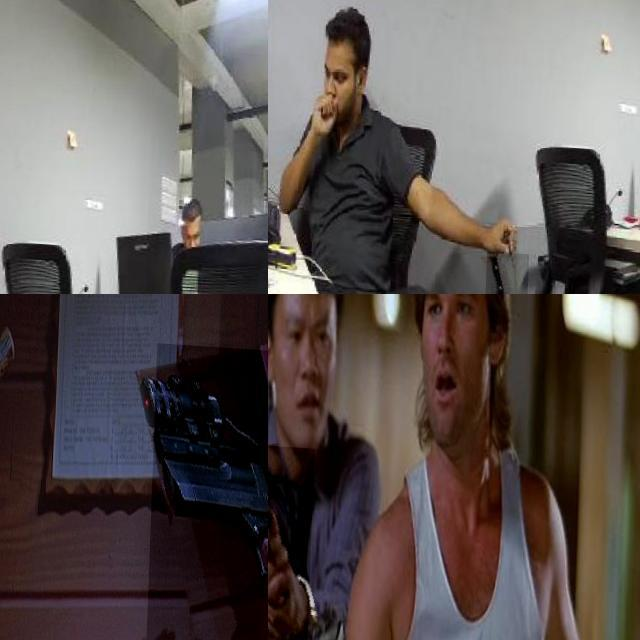-: (488, 247, 533, 294), (0, 151, 18, 238)
gun-knife-thesis - v11 Yolov5 augmented: (148, 340, 268, 640), (268, 440, 317, 638), (278, 608, 360, 640)
